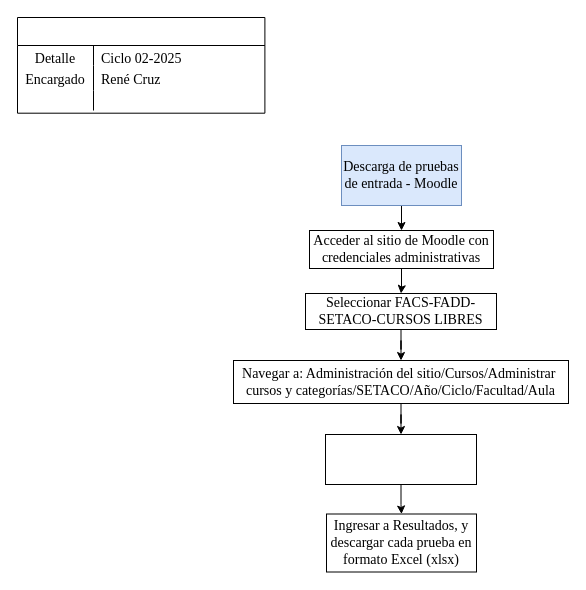
The diagram is 586 pixels wide and 590 high, and some of its shapes have lost their labels. Here are the shapes that lost their labels. From the top down, the box of each, then its label:
(16, 16, 265, 113): Reportes estadísticos de SETACO
(324, 434, 476, 484): En cada aula, localizar las actividades de Prueba de entrada
